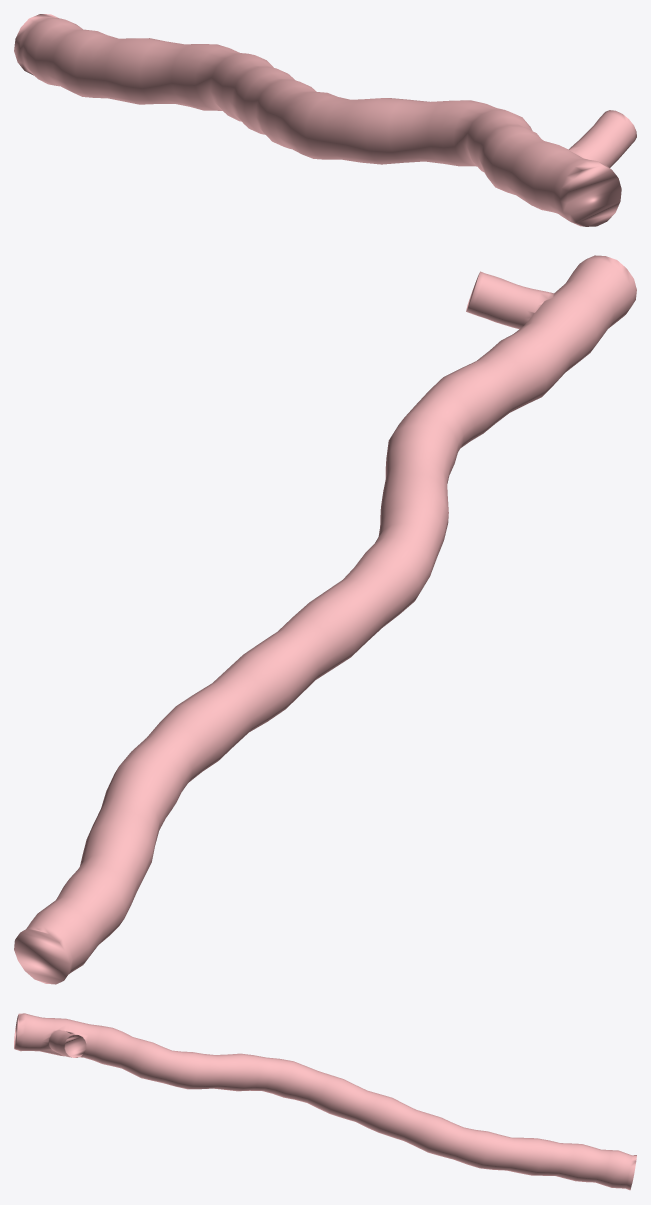
File: stage_esophagus.glb
The picture shows the model from 3 angles, top to bottom: view 1: azimuth 30°, elevation 25°; view 2: azimuth 150°, elevation 25°; view 3: azimuth 270°, elevation 25°; orthographic projection. The views are drawn at different scales.
Visible parts, largest first — view 1: Esophagus; view 2: Esophagus; view 3: Esophagus.
Boxes of the visible parts, <box> form: Esophagus: <box>14,14,636,226</box>; Esophagus: <box>14,255,636,984</box>; Esophagus: <box>14,1013,636,1190</box>.
Bounding box in the file's own units: 29.32 × 59.04 × 192.
